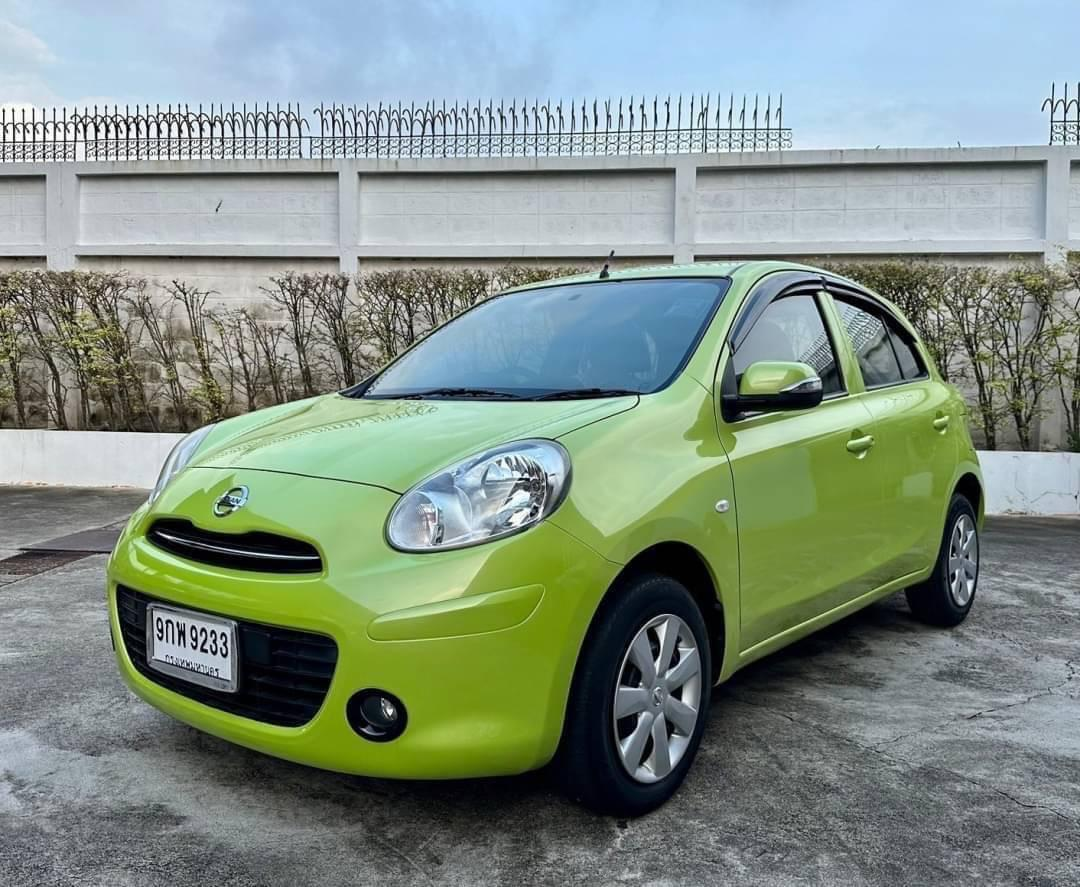license-plate: (140, 598, 242, 694)
